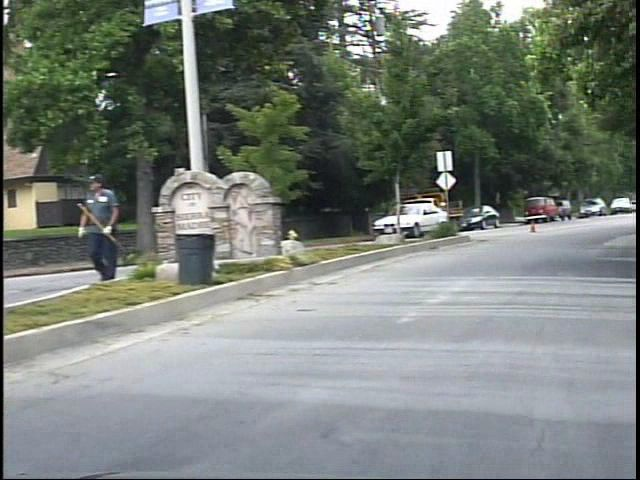person: (77, 168, 133, 287)
